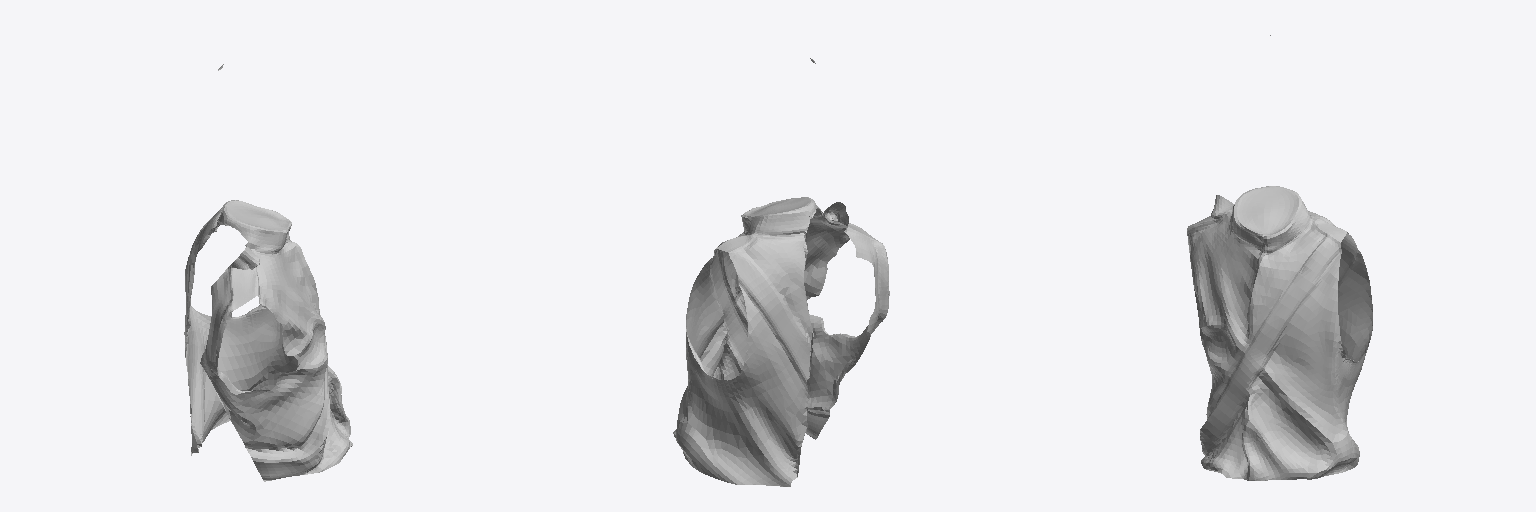
The model's file is torse_avec_trous.obj.
The picture shows the model from 3 angles: view 1: azimuth 30°, elevation 25°; view 2: azimuth 150°, elevation 25°; view 3: azimuth 270°, elevation 25°; orthographic projection.
Visible parts, largest first — view 1: 15548_French_Horseman_v1, 15548_French_Horseman_v1.001, 15548_French_Horseman_v1.024_15548_French_Horseman_v1.041; view 2: 15548_French_Horseman_v1.001, 15548_French_Horseman_v1; view 3: 15548_French_Horseman_v1.001, 15548_French_Horseman_v1, 15548_French_Horseman_v1.024_15548_French_Horseman_v1.041.
Part boxes in pixels (x1,y1,x2,y2): 15548_French_Horseman_v1: (200, 215, 352, 481); 15548_French_Horseman_v1.001: (184, 64, 297, 455); 15548_French_Horseman_v1.024_15548_French_Horseman_v1.041: (217, 212, 264, 241); 15548_French_Horseman_v1.001: (673, 58, 815, 486); 15548_French_Horseman_v1: (713, 197, 889, 439); 15548_French_Horseman_v1.001: (1270, 35, 1372, 479); 15548_French_Horseman_v1: (1187, 195, 1275, 480); 15548_French_Horseman_v1.024_15548_French_Horseman_v1.041: (1237, 186, 1272, 215).
Bounding box in the file's own units: 1.56 × 3.8 × 1.57.